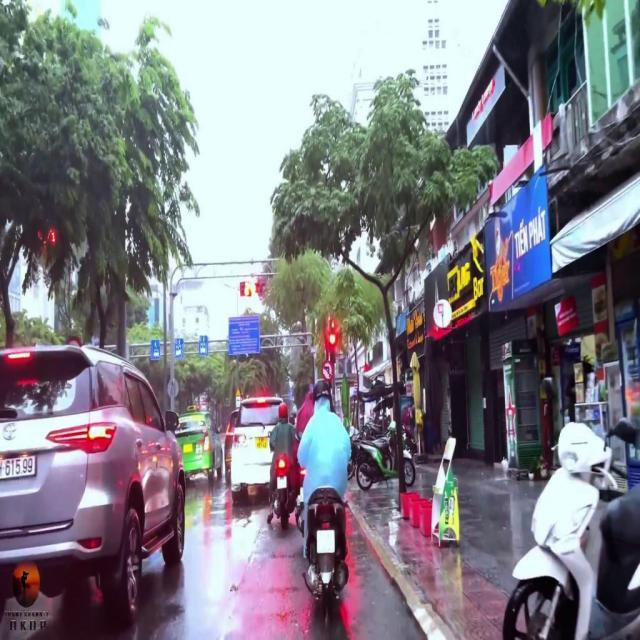123a-cam-re-trai: (321, 360, 333, 382)
